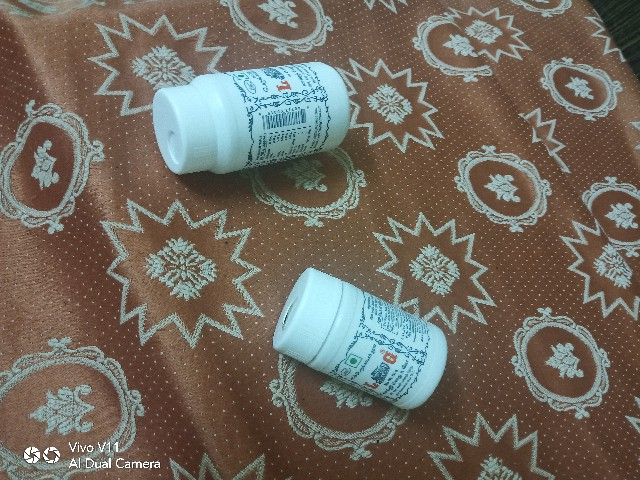lgasafoetidapowder large: (119, 47, 365, 213)
lgasafoetidapowder small: (258, 257, 458, 434)
